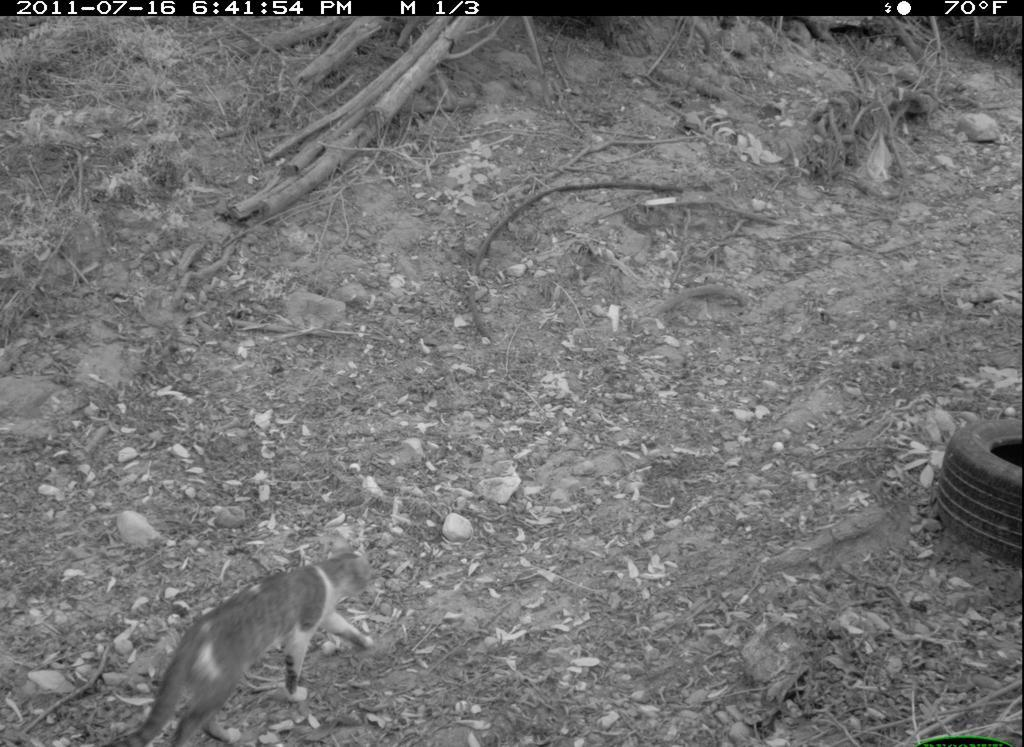cat: (114, 541, 388, 745)
